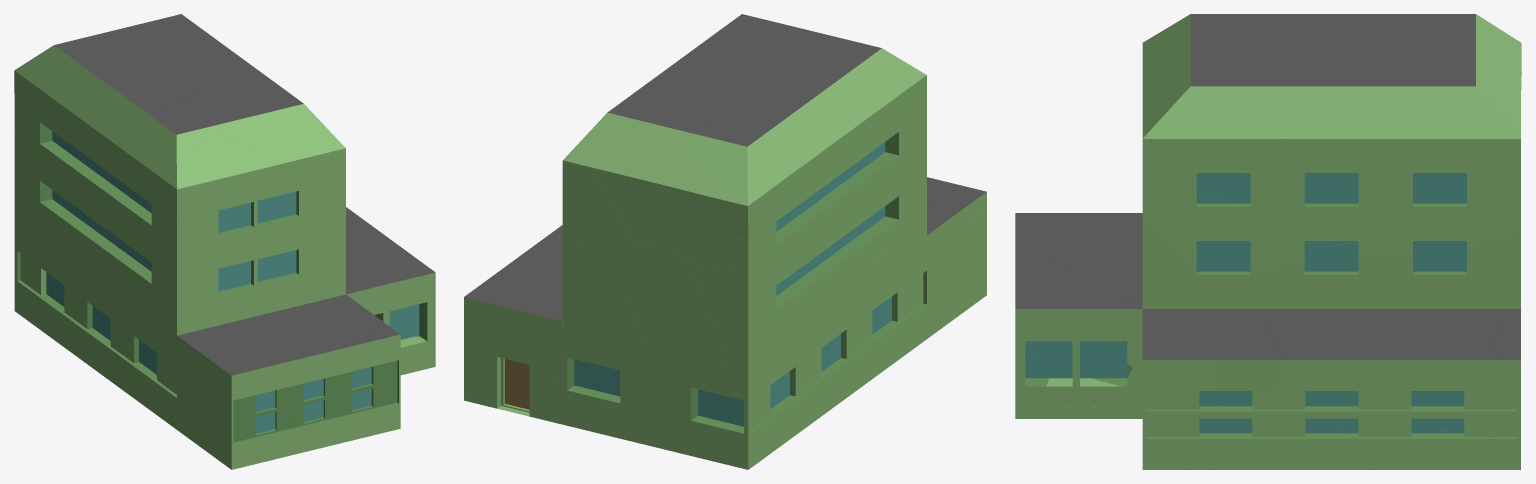
The model's file is Edificio_04.fbx.
3 renders of one model, left to right at view 1: azimuth 30°, elevation 25°; view 2: azimuth 150°, elevation 25°; view 3: azimuth 270°, elevation 25°, orthographic. The views are drawn at different scales.
Parts seen in each view (by area): view 1: Cube.010_cell.003, Cube.010_cell.016, Cube.010_cell.008, Cube.010_cell.015, Cube.010_cell.011, Cube.010_cell.013, Cube.010_cell.001, Cube.010_cell.004, Cube.009_cell.015, Cube.010_cell.019, Cube.009_cell.019, Cube.010_cell.007 (+39 smaller); view 2: Cube.010_cell.023, Cube.008_cell.023, Cube.010_cell.015, Cube.007_cell.018, Cube.010_cell.012, Cube.010_cell.011, Cube.007_cell.022, Cube.010_cell.004, Cube.010_cell.017, Cube.010_cell.001, Cube.010_cell.019, Cube.010_cell.021 (+31 smaller); view 3: Cube.010_cell.021, Cube.010_cell.008, Cube.010_cell.013, Cube.010_cell, Cube.010_cell.020, Cube.010_cell.004, Cube.010_cell.009, Cube.008_cell.007, Cube.008_cell.009, Cube.008_cell.004, Cube.008_cell.020, Cube.010_cell.023 (+30 smaller).
Part boxes in pixels (left/top/right/bottom): Cube.010_cell.003: left=166, top=133, right=333, bottom=272; Cube.010_cell.016: left=145, top=213, right=282, bottom=335; Cube.010_cell.008: left=193, top=81, right=345, bottom=202; Cube.010_cell.015: left=14, top=53, right=89, bottom=184; Cube.010_cell.011: left=130, top=102, right=218, bottom=238; Cube.010_cell.013: left=276, top=198, right=345, bottom=310; Cube.010_cell.001: left=66, top=69, right=150, bottom=159; Cube.010_cell.004: left=129, top=14, right=214, bottom=98; Cube.009_cell.015: left=211, top=372, right=287, bottom=464; Cube.010_cell.019: left=66, top=48, right=183, bottom=116; Cube.009_cell.019: left=292, top=327, right=361, bottom=393; Cube.010_cell.007: left=82, top=146, right=134, bottom=232; Cube.010_cell.023: left=589, top=117, right=759, bottom=251; Cube.008_cell.023: left=464, top=290, right=558, bottom=420; Cube.010_cell.015: left=673, top=137, right=815, bottom=290; Cube.007_cell.018: left=628, top=340, right=728, bottom=461; Cube.010_cell.012: left=625, top=245, right=730, bottom=361; Cube.010_cell.011: left=803, top=38, right=915, bottom=174; Cube.007_cell.022: left=562, top=321, right=639, bottom=431; Cube.010_cell.004: left=597, top=62, right=796, bottom=133; Cube.010_cell.017: left=691, top=263, right=776, bottom=366; Cube.010_cell.001: left=775, top=69, right=868, bottom=202; Cube.010_cell.019: left=726, top=63, right=854, bottom=139; Cube.010_cell.021: left=562, top=123, right=632, bottom=242; Cube.010_cell.021: left=1300, top=98, right=1520, bottom=255; Cube.010_cell.008: left=1142, top=34, right=1268, bottom=198; Cube.010_cell.013: left=1142, top=196, right=1303, bottom=308; Cube.010_cell: left=1302, top=226, right=1520, bottom=308; Cube.010_cell.020: left=1262, top=52, right=1401, bottom=156; Cube.010_cell.004: left=1272, top=38, right=1493, bottom=114; Cube.010_cell.009: left=1223, top=36, right=1330, bottom=250; Cube.008_cell.007: left=1336, top=362, right=1428, bottom=469; Cube.008_cell.009: left=1416, top=345, right=1501, bottom=432; Cube.008_cell.004: left=1265, top=309, right=1342, bottom=416; Cube.008_cell.020: left=1334, top=309, right=1499, bottom=359; Cube.010_cell.023: left=1440, top=14, right=1521, bottom=124.
Bounding box in the file's own units: 1688 × 1715 × 2457.
